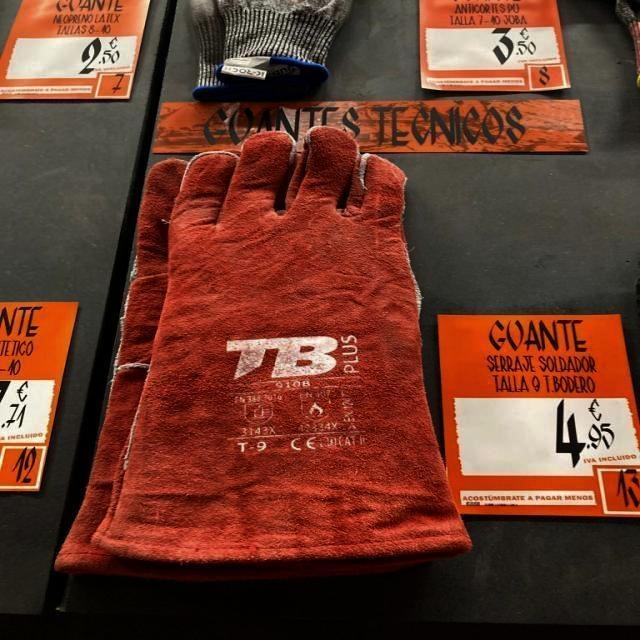Guantes: (77, 123, 474, 578)
